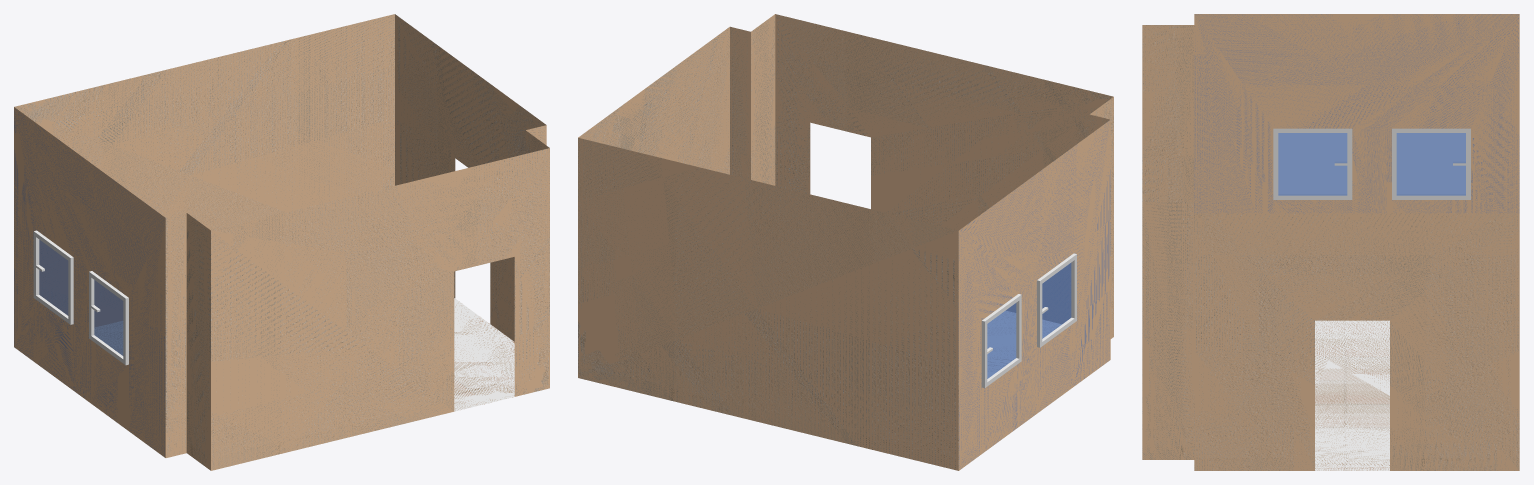
File: DES011.obj
The picture shows the model from 3 angles, left to right: view 1: azimuth 30°, elevation 25°; view 2: azimuth 150°, elevation 25°; view 3: azimuth 270°, elevation 25°; orthographic projection. The views are drawn at different scales.
Parts seen in each view (by area): view 1: Mesh7 CUA011 Model, Mesh4 ventana3_1_2 CUA011 Model, Mesh1 ventana3_1_1 CUA011 Model; view 2: Mesh7 CUA011 Model, Mesh4 ventana3_1_2 CUA011 Model, Mesh1 ventana3_1_1 CUA011 Model; view 3: Mesh7 CUA011 Model, Mesh1 ventana3_1_1 CUA011 Model, Mesh4 ventana3_1_2 CUA011 Model.
Part boxes in pixels (bbox=[...]): Mesh7 CUA011 Model: bbox=[14, 14, 549, 470]; Mesh4 ventana3_1_2 CUA011 Model: bbox=[33, 230, 73, 324]; Mesh1 ventana3_1_1 CUA011 Model: bbox=[89, 271, 128, 365]; Mesh7 CUA011 Model: bbox=[578, 14, 1113, 470]; Mesh4 ventana3_1_2 CUA011 Model: bbox=[981, 294, 1021, 388]; Mesh1 ventana3_1_1 CUA011 Model: bbox=[1037, 253, 1076, 347]; Mesh7 CUA011 Model: bbox=[1142, 14, 1519, 470]; Mesh1 ventana3_1_1 CUA011 Model: bbox=[1273, 128, 1352, 199]; Mesh4 ventana3_1_2 CUA011 Model: bbox=[1392, 128, 1470, 199].
Bounding box in the file's own units: 6.02 × 3.6 × 4.78.
Materials: 7 (2 with a texture image).
